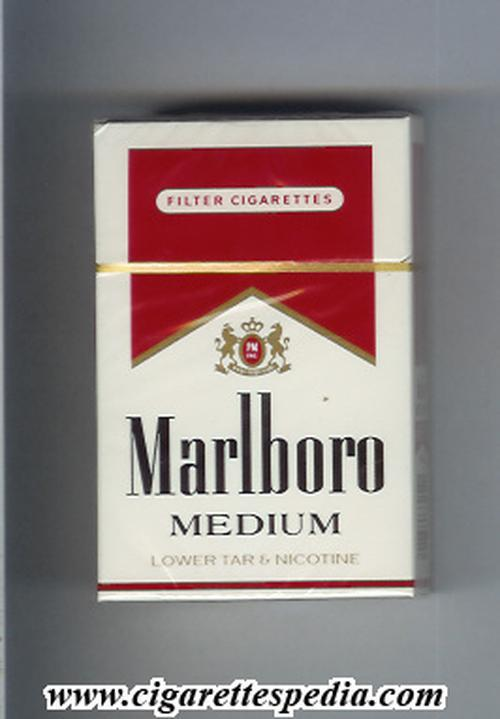marlboro: (101, 130, 415, 596)
